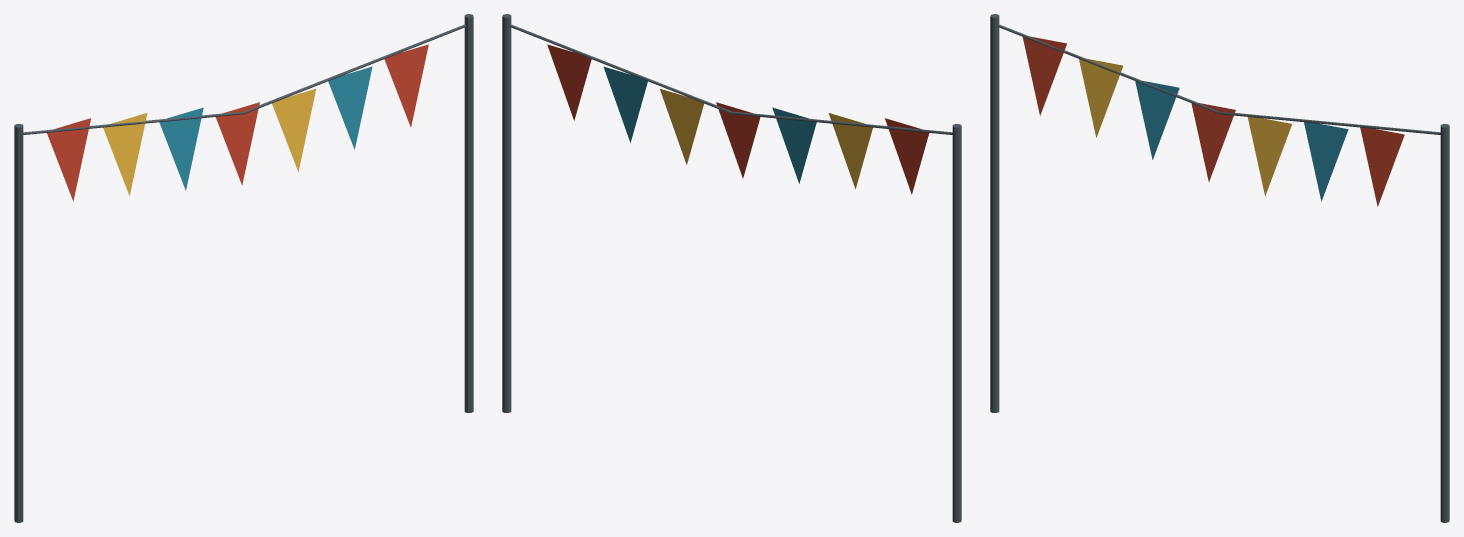
The model's file is HAP_FLAGS_01.fbx.
3 views of the same model, side by side, from view 1: azimuth 30°, elevation 25°; view 2: azimuth 150°, elevation 25°; view 3: azimuth 330°, elevation 25° (orthographic).
Parts seen in each view (by area): view 1: HAP_FLAGS_01; view 2: HAP_FLAGS_01; view 3: HAP_FLAGS_01.
Boxes of the visible parts, x1=… form: HAP_FLAGS_01: x1=14, y1=14, x2=473, y2=522; HAP_FLAGS_01: x1=502, y1=14, x2=961, y2=522; HAP_FLAGS_01: x1=990, y1=14, x2=1449, y2=522.
Bounding box in the file's own units: 285 × 235 × 7.5.
